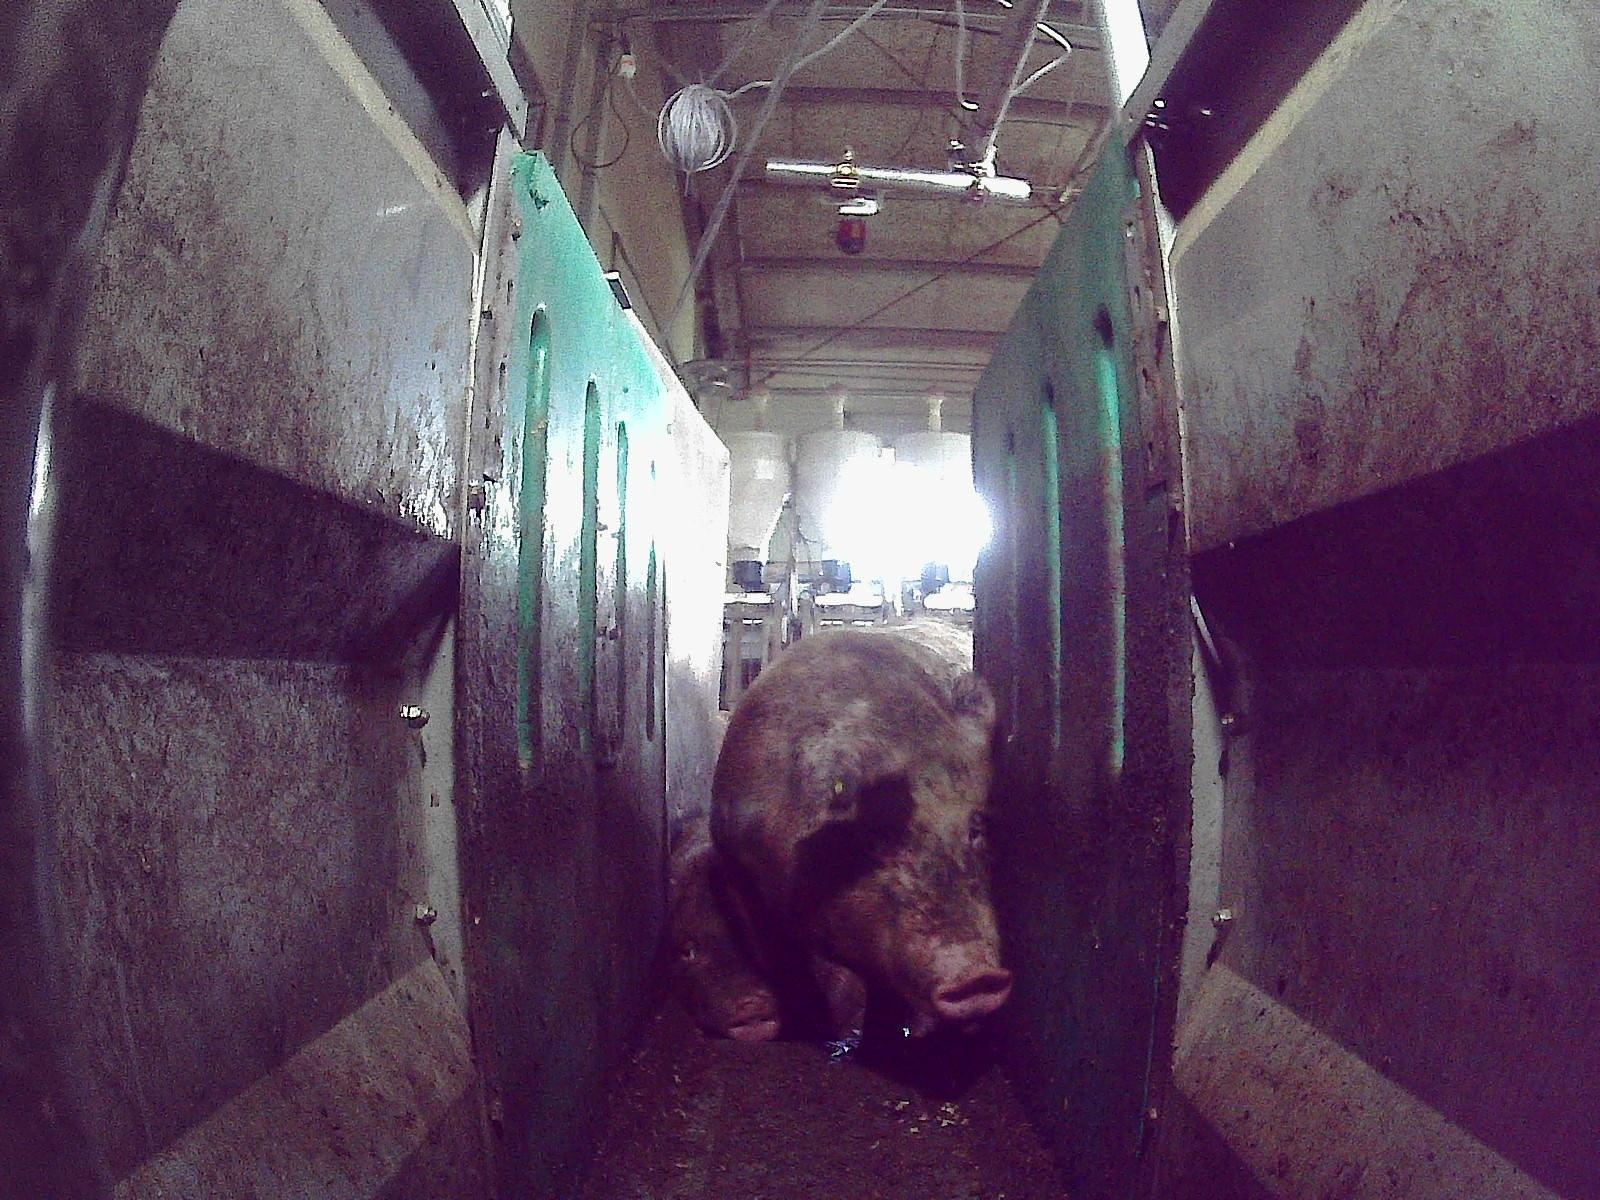Face: (826, 746, 1013, 1019)
